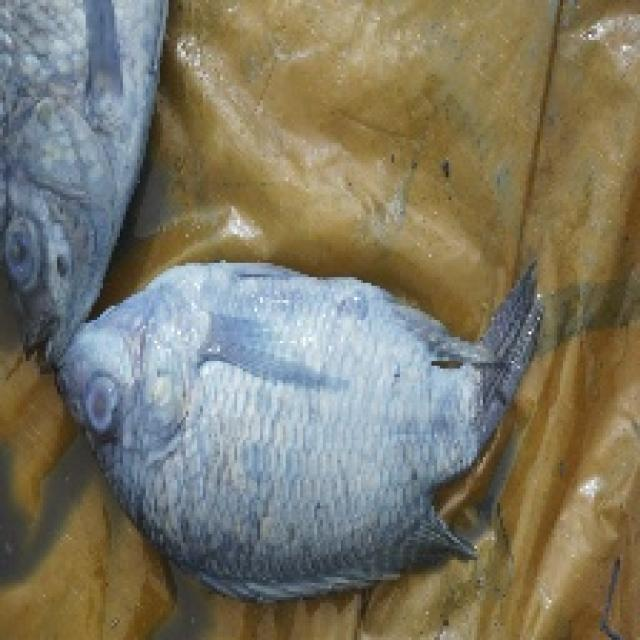Non-Fresh: (77, 277, 446, 589), (0, 0, 119, 297)
